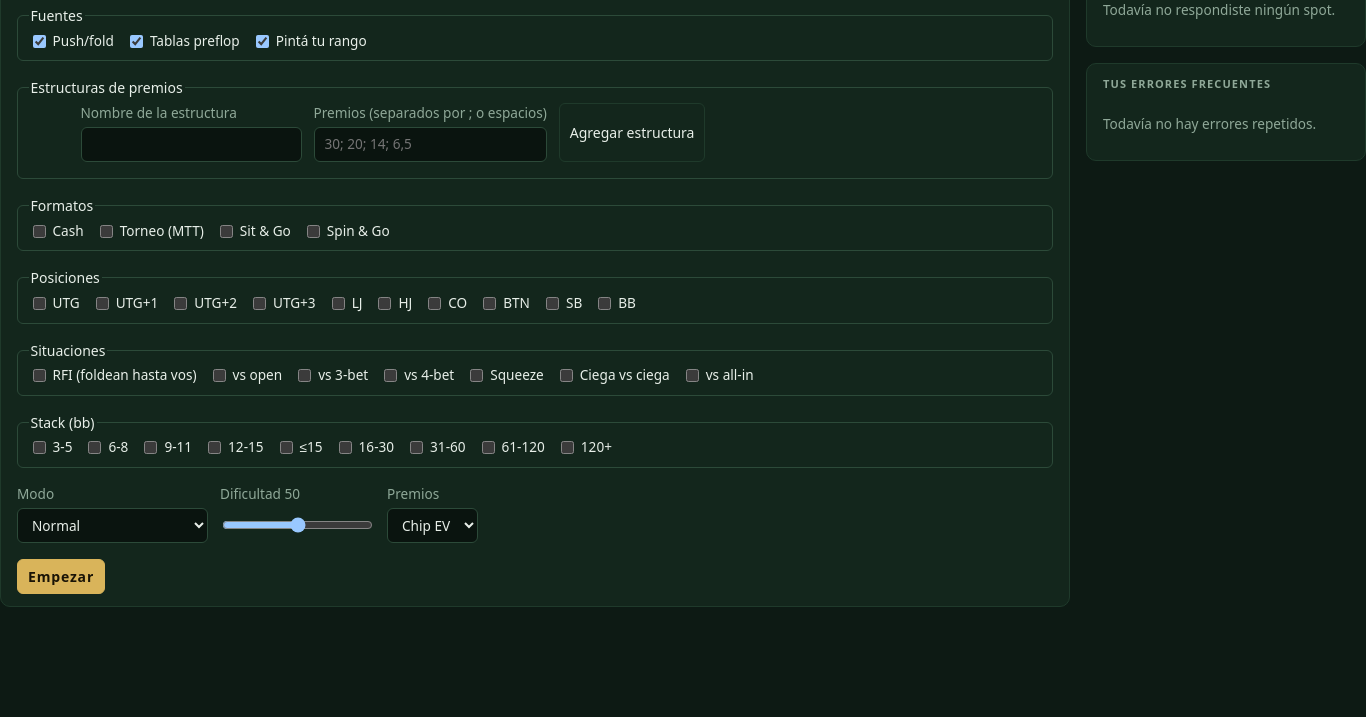
Test: TrainerPage › shows the no-spots message and clears filters
Click the button "Empezar". click: point(61, 576)
box: [17,559,105,594]
(page scrolled)
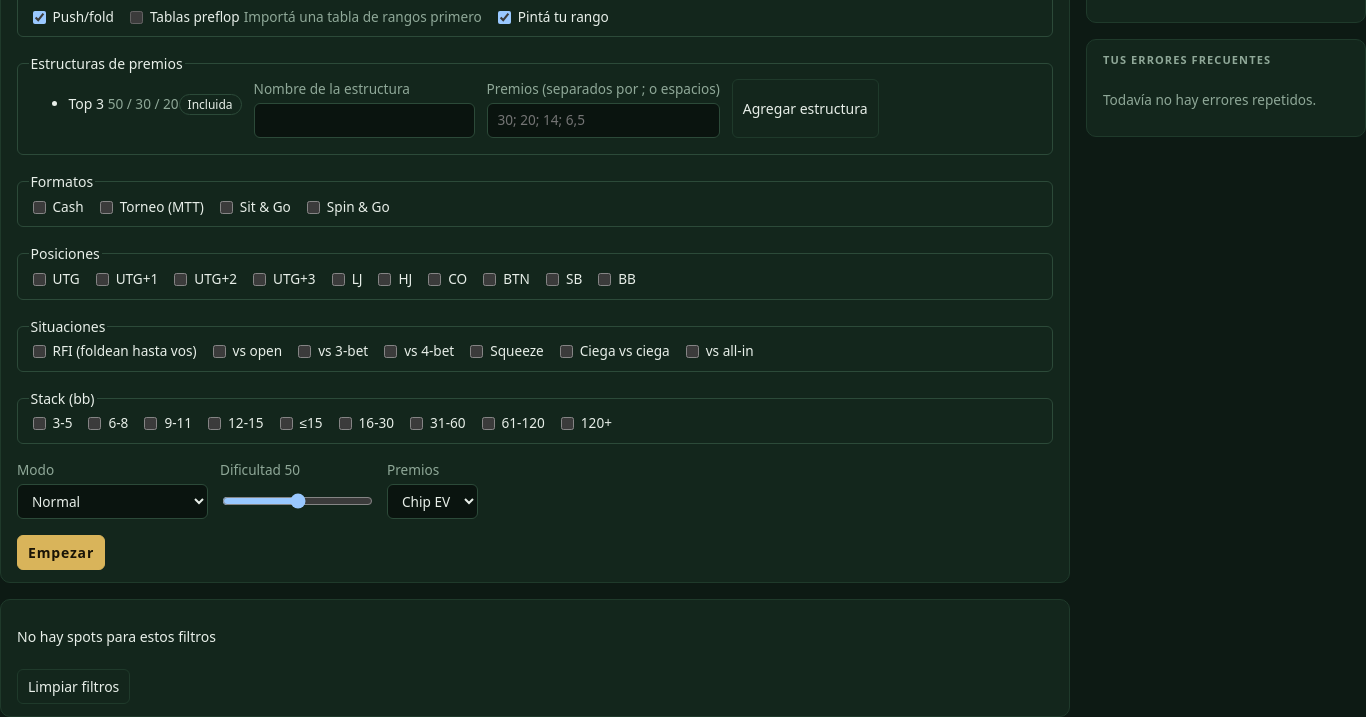
Now the text "No hay spots para estos filtros" is shown, box [17,627,216,646]
Now the button "Limpiar filtros" is shown, box [17,669,130,704]
